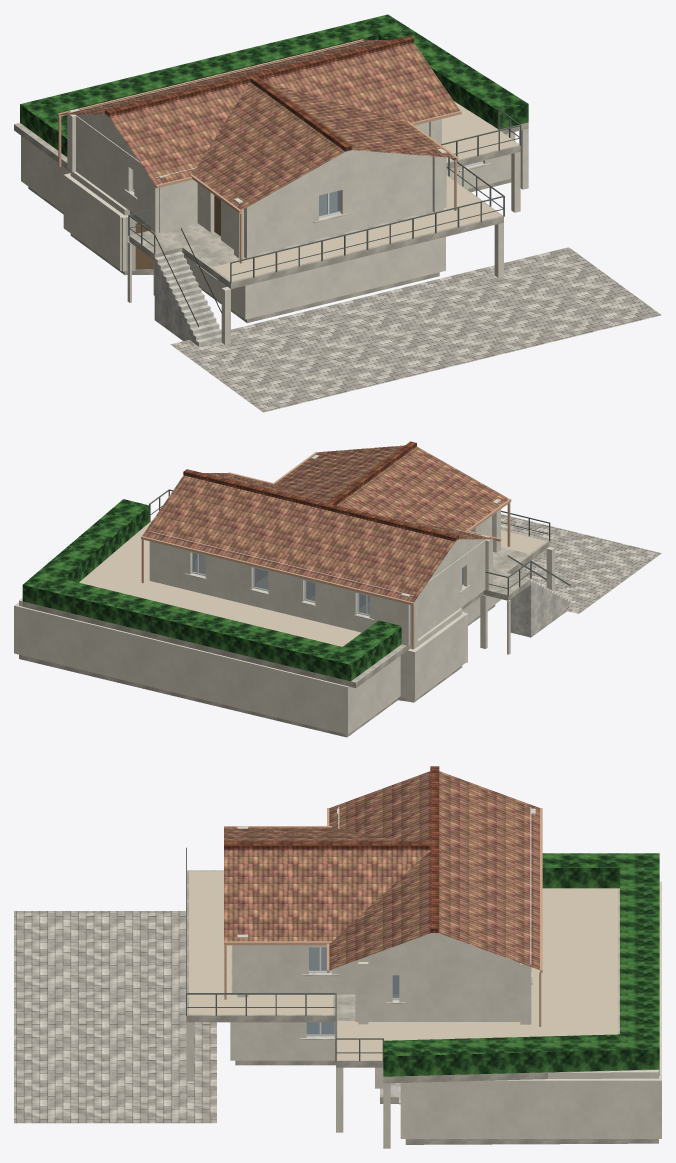
Rendered from villa_delvis.glb.
The picture shows the model from 3 angles, top to bottom: view 1: azimuth 30°, elevation 25°; view 2: azimuth 150°, elevation 25°; view 3: azimuth 270°, elevation 25°; orthographic projection. The views are drawn at different scales.
Parts seen in each view (by area): view 1: cortile, falde_tetto, muri_primo_piano (×6), muri_piano_terra (×5), fioriere, piano_primo, stanza_balcone, scala_esterna, colmi, timpani, ringhiere, pilastri (+4 smaller); view 2: falde_tetto, muri_piano_terra (×4), fioriere, muri_primo_piano (×3), stanza_terrazza, cortile, piano_primo, colmi, scala_esterna, grondaie, solaio_terra, pilastri (+5 smaller); view 3: falde_tetto, cortile, fioriere, muri_piano_terra (×3), stanza_terrazza, muri_primo_piano (×5), stanza_balcone, piano_primo, colmi, timpani, solaio_terra, grondaie (+3 smaller).
Boxes of the visible parts, bbox=[...] form: cortile: bbox=[170, 247, 661, 412]; falde_tetto: bbox=[59, 40, 460, 210]; muri_primo_piano (×6): bbox=[67, 41, 446, 258]; muri_piano_terra (×5): bbox=[21, 133, 512, 319]; fioriere: bbox=[20, 14, 528, 156]; piano_primo: bbox=[14, 101, 528, 288]; stanza_balcone: bbox=[212, 175, 501, 281]; scala_esterna: bbox=[154, 251, 221, 346]; colmi: bbox=[105, 36, 414, 151]; timpani: bbox=[76, 114, 431, 196]; ringhiere: bbox=[128, 109, 521, 283]; pilastri: bbox=[127, 128, 528, 344]; falde_tetto: bbox=[142, 445, 508, 602]; muri_piano_terra (×4): bbox=[14, 604, 467, 734]; fioriere: bbox=[22, 499, 401, 681]; muri_primo_piano (×3): bbox=[149, 529, 492, 645]; stanza_terrazza: bbox=[79, 521, 361, 646]; cortile: bbox=[501, 514, 661, 613]; piano_primo: bbox=[22, 520, 549, 687]; colmi: bbox=[183, 441, 458, 541]; scala_esterna: bbox=[510, 579, 570, 637]; grondaie: bbox=[141, 451, 511, 649]; solaio_terra: bbox=[19, 604, 495, 737]; pilastri: bbox=[480, 546, 554, 654]; falde_tetto: bbox=[224, 771, 539, 970]; cortile: bbox=[14, 911, 216, 1123]; fioriere: bbox=[383, 853, 659, 1076]; muri_piano_terra (×3): bbox=[230, 881, 661, 1138]; stanza_terrazza: bbox=[337, 888, 618, 1060]; muri_primo_piano (×5): bbox=[232, 807, 531, 1024]; stanza_balcone: bbox=[189, 871, 333, 1014]; piano_primo: bbox=[186, 870, 659, 1083]; colmi: bbox=[224, 766, 439, 932]; timpani: bbox=[353, 933, 516, 961]; solaio_terra: bbox=[235, 1060, 658, 1144]; grondaie: bbox=[224, 808, 542, 1026].
Size of what is drawn, in the model's own units: 22.08 by 7.6 by 26.15.
15 materials, 8 textured.
